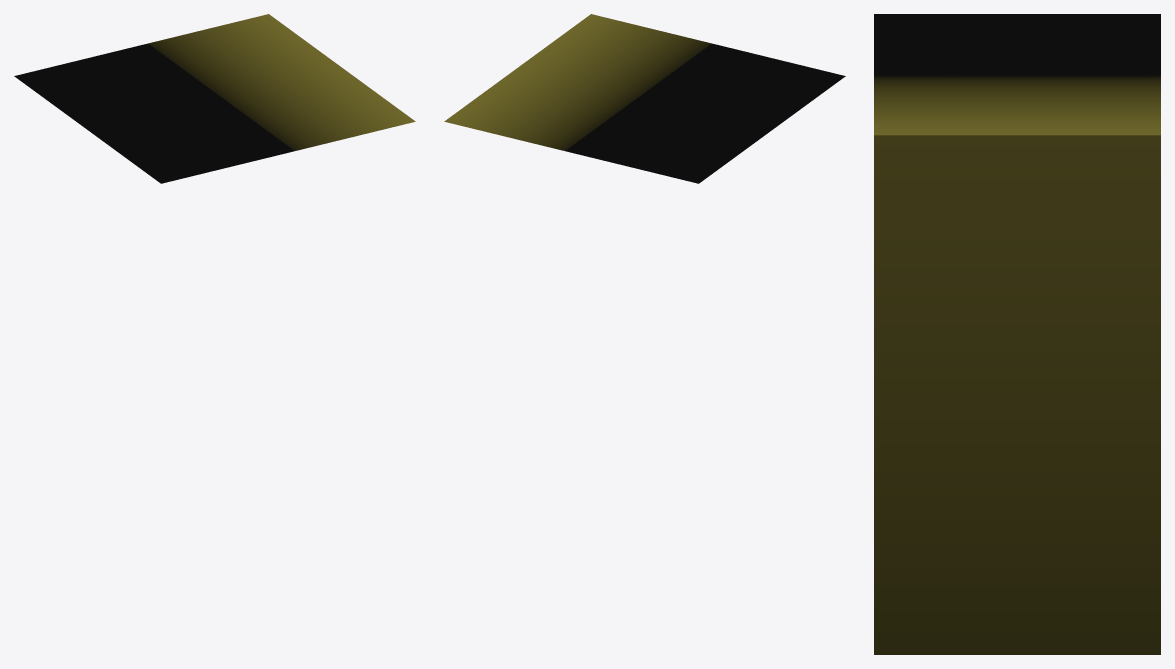
3 renders of one model, left to right at view 1: azimuth 30°, elevation 25°; view 2: azimuth 150°, elevation 25°; view 3: azimuth 270°, elevation 25°, orthographic. The views are drawn at different scales.
Bounding box in the file's own units: 1 × 2 × 1.
Materials: 1 (1 with a texture image).
